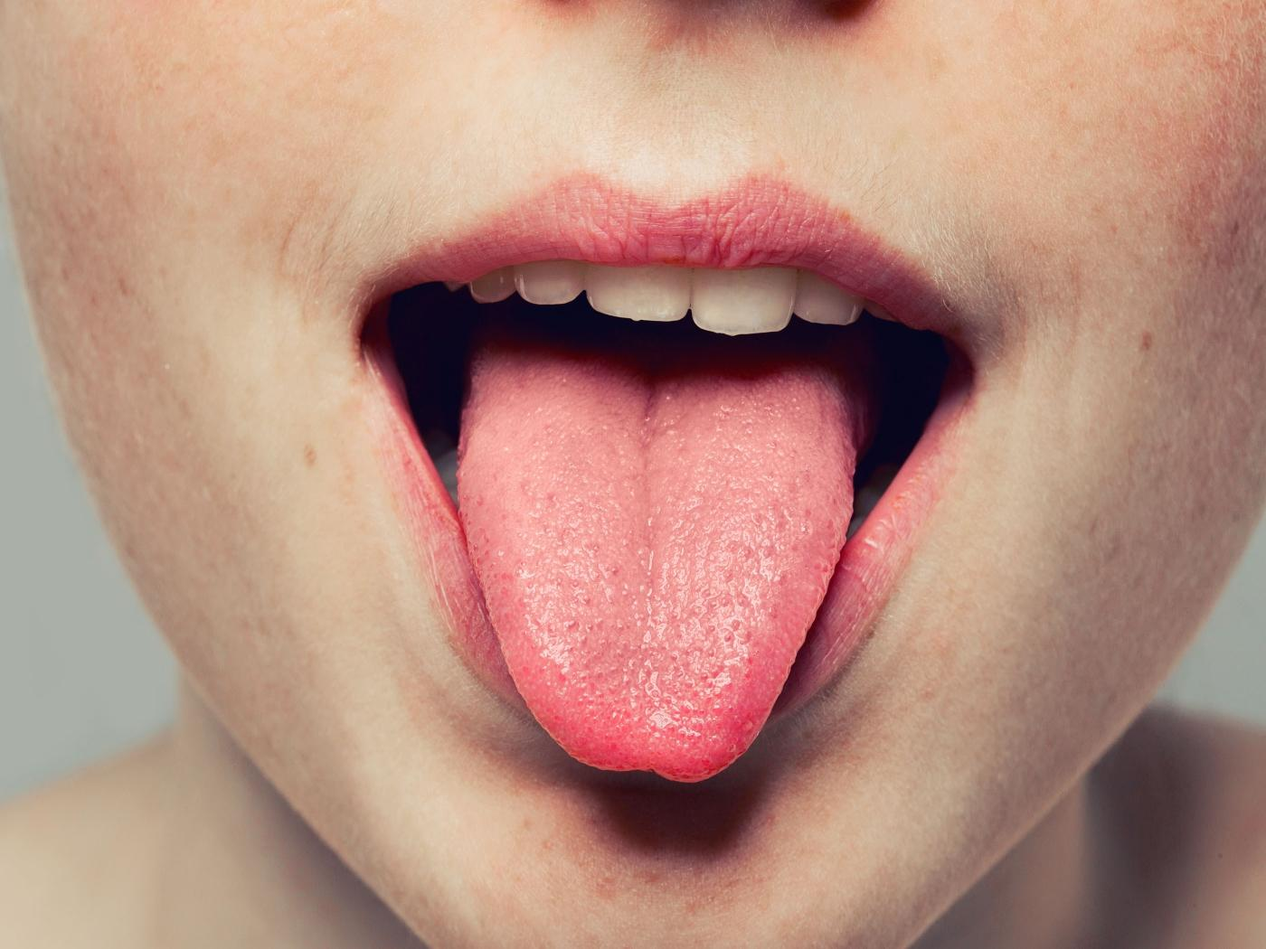hongdianshe: (563, 618, 580, 632), (608, 560, 619, 577), (721, 630, 733, 645), (569, 576, 580, 591), (698, 669, 708, 681)
hongshe: (457, 302, 869, 785)
